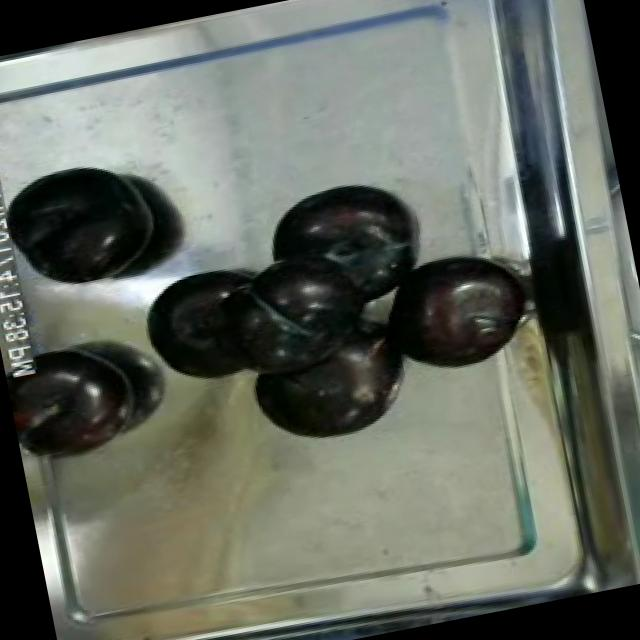Fruit: (245, 162, 432, 320), (0, 147, 175, 305), (362, 236, 542, 384), (236, 321, 422, 458), (125, 252, 282, 400)
